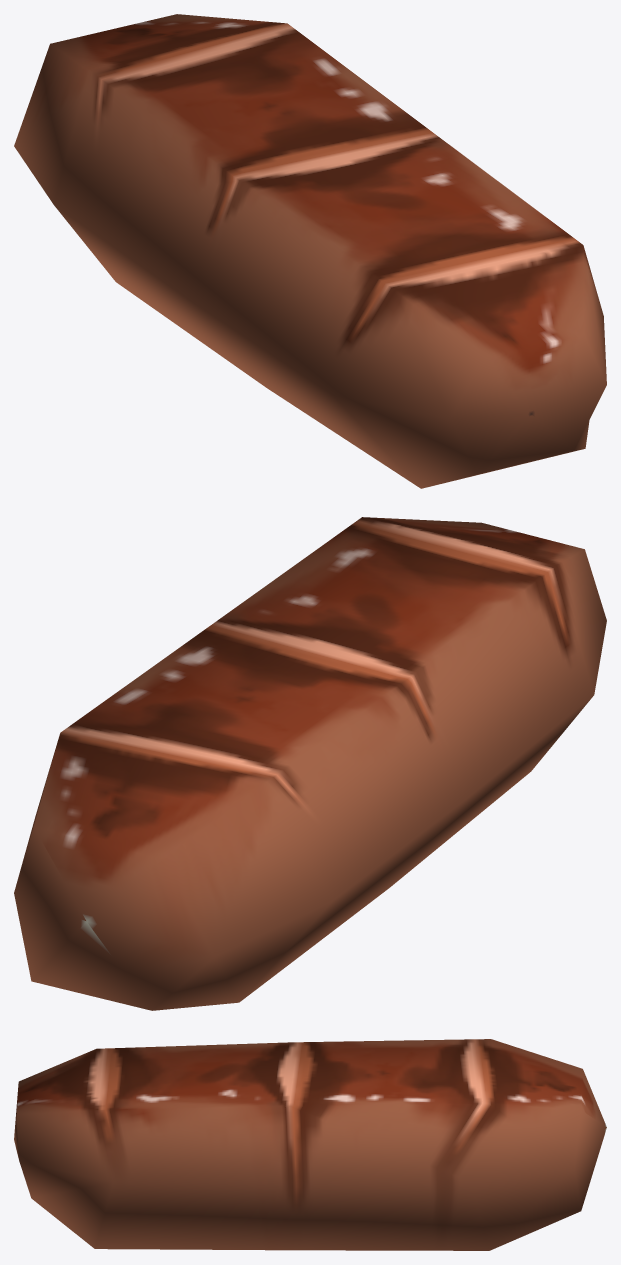
File: SM_PROP_food_sausage_01.FBX
3 renders of one model, top to bottom at view 1: azimuth 30°, elevation 25°; view 2: azimuth 150°, elevation 25°; view 3: azimuth 270°, elevation 25°, orthographic. The views are drawn at different scales.
Visible parts, largest first — view 1: SM_PROP_food_sausage_01; view 2: SM_PROP_food_sausage_01; view 3: SM_PROP_food_sausage_01.
Boxes of the visible parts, x1,y1,x2,y2 form: SM_PROP_food_sausage_01: (14, 14, 606, 488); SM_PROP_food_sausage_01: (14, 517, 606, 1010); SM_PROP_food_sausage_01: (14, 1039, 606, 1250).
Size of the model in its own units: 11.09 by 29.61 by 8.06.
